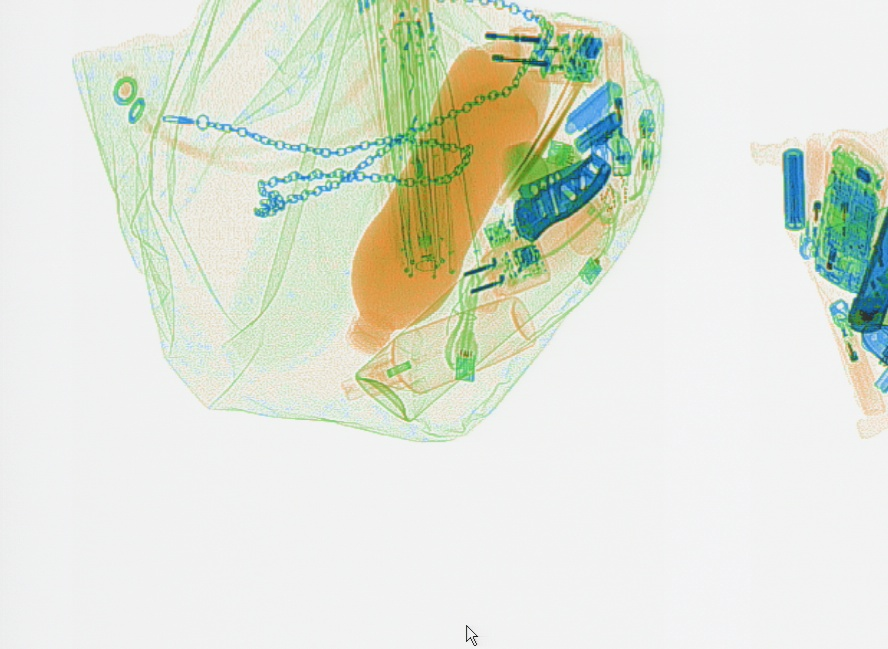knife: (509, 151, 611, 245)
lighter: (820, 295, 879, 423), (597, 31, 635, 177), (819, 145, 856, 263), (796, 129, 827, 259)
pressure: (352, 178, 619, 426)
